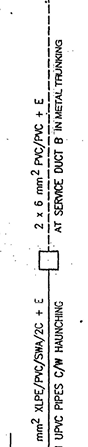Cable Termination Box: (35, 238, 65, 286)
